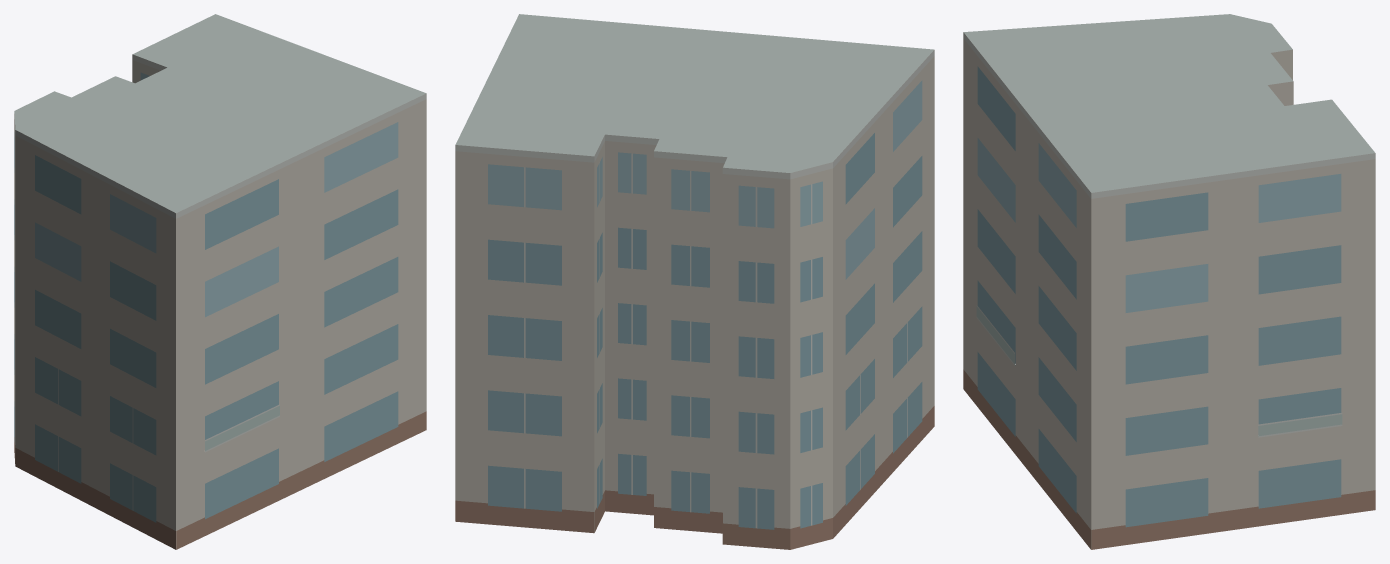
Rendered from survey-upis-32984373.glb.
The picture shows the model from 3 angles, left to right: view 1: azimuth 30°, elevation 25°; view 2: azimuth 150°, elevation 25°; view 3: azimuth 270°, elevation 25°; orthographic projection. The views are drawn at different scales.
Parts seen in each view (by area): view 1: survey-upis-32984373.tmp; view 2: survey-upis-32984373.tmp; view 3: survey-upis-32984373.tmp.
Part boxes in pixels (<box>): survey-upis-32984373.tmp: <box>14,14,426,549</box>; survey-upis-32984373.tmp: <box>455,14,934,549</box>; survey-upis-32984373.tmp: <box>963,14,1375,549</box>.
Size of the model in its own units: 15.71 by 14.6 by 15.29.
